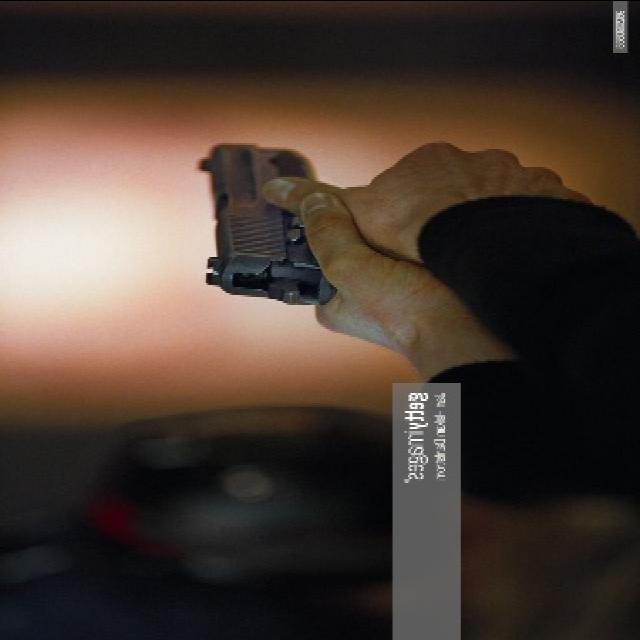handgun: (196, 137, 332, 307)
